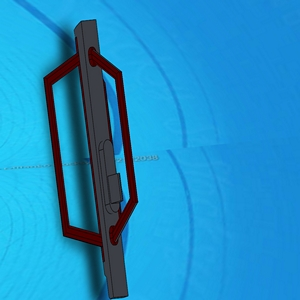submarine: (40, 21, 138, 297)
